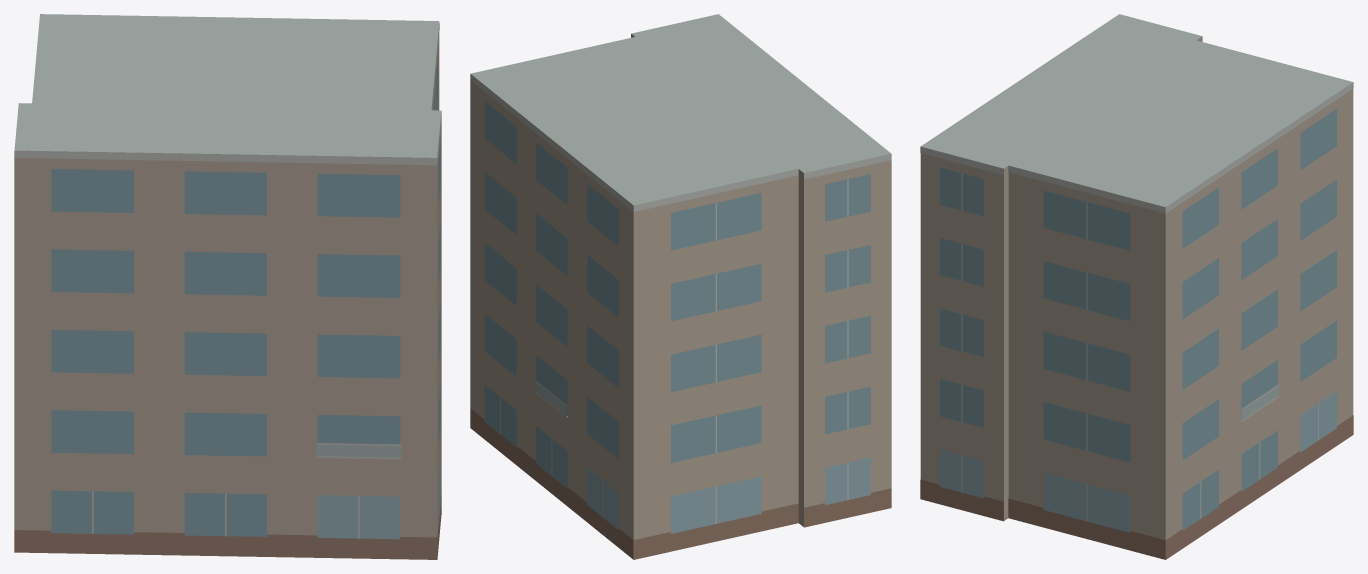
The model's file is survey-upis-32609274.glb.
The picture shows the model from 3 angles, left to right: view 1: azimuth 30°, elevation 25°; view 2: azimuth 150°, elevation 25°; view 3: azimuth 270°, elevation 25°; orthographic projection. The views are drawn at different scales.
Parts seen in each view (by area): view 1: survey-upis-32609274.tmp; view 2: survey-upis-32609274.tmp; view 3: survey-upis-32609274.tmp.
Boxes of the visible parts, <box> form: survey-upis-32609274.tmp: <box>14,14,441,559</box>; survey-upis-32609274.tmp: <box>470,14,891,559</box>; survey-upis-32609274.tmp: <box>920,14,1353,559</box>.
Size of the model in its own units: 15.64 by 13.3 by 14.81.
